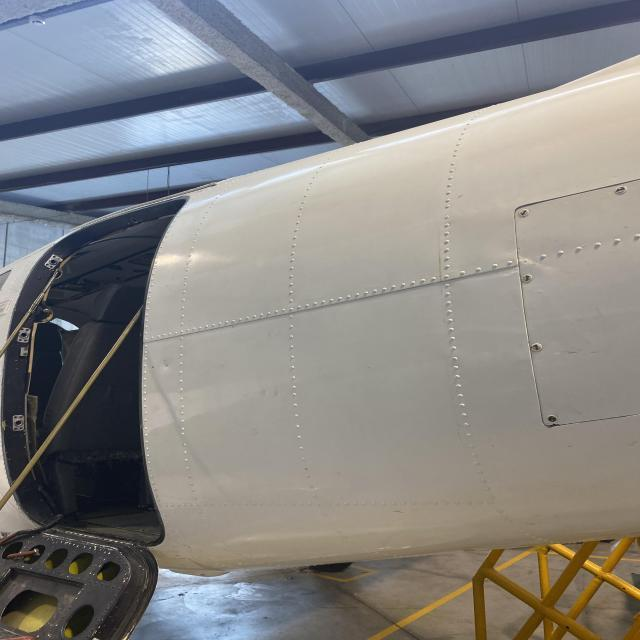Dent: (160, 359, 170, 368)
